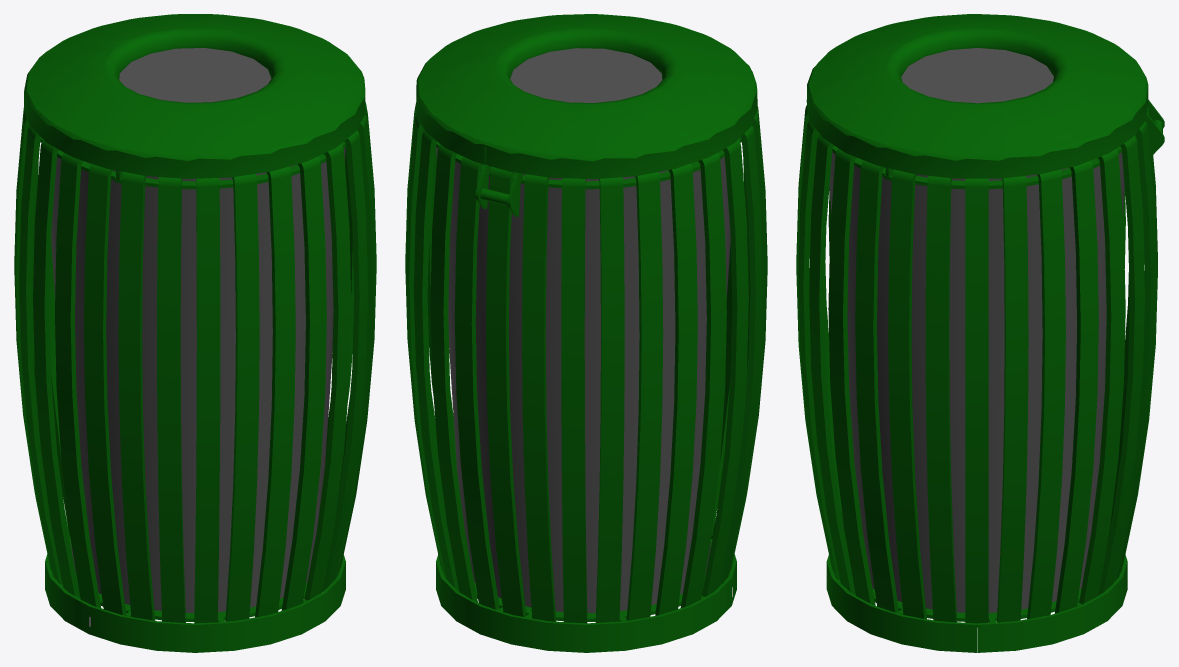
3 renders of one model, left to right at view 1: azimuth 30°, elevation 25°; view 2: azimuth 150°, elevation 25°; view 3: azimuth 270°, elevation 25°, orthographic.
Visible parts, largest first — view 1: mesh1_mesh1-geometry, mesh48_mesh48-geometry, mesh32_mesh32-geometry, mesh3_mesh3-geometry, mesh23_mesh23-geometry, mesh12_mesh12-geometry; view 2: mesh1_mesh1-geometry, mesh48_mesh48-geometry, mesh32_mesh32-geometry, mesh3_mesh3-geometry, mesh23_mesh23-geometry, mesh12_mesh12-geometry; view 3: mesh1_mesh1-geometry, mesh48_mesh48-geometry, mesh32_mesh32-geometry, mesh3_mesh3-geometry, mesh23_mesh23-geometry, mesh12_mesh12-geometry.
Boxes of the visible parts, left/top/right/bottom form: mesh1_mesh1-geometry: left=14, top=102, right=376, bottom=623; mesh48_mesh48-geometry: left=51, top=48, right=345, bottom=612; mesh32_mesh32-geometry: left=24, top=14, right=365, bottom=178; mesh3_mesh3-geometry: left=45, top=536, right=345, bottom=652; mesh23_mesh23-geometry: left=39, top=129, right=358, bottom=189; mesh12_mesh12-geometry: left=61, top=538, right=307, bottom=621; mesh1_mesh1-geometry: left=405, top=102, right=767, bottom=623; mesh48_mesh48-geometry: left=436, top=48, right=730, bottom=612; mesh32_mesh32-geometry: left=416, top=14, right=757, bottom=179; mesh3_mesh3-geometry: left=436, top=536, right=736, bottom=652; mesh23_mesh23-geometry: left=423, top=129, right=741, bottom=189; mesh12_mesh12-geometry: left=445, top=538, right=712, bottom=621; mesh1_mesh1-geometry: left=796, top=105, right=1157, bottom=627; mesh48_mesh48-geometry: left=829, top=48, right=1124, bottom=612; mesh32_mesh32-geometry: left=806, top=14, right=1148, bottom=178; mesh3_mesh3-geometry: left=826, top=545, right=1127, bottom=652; mesh23_mesh23-geometry: left=817, top=133, right=1136, bottom=189; mesh12_mesh12-geometry: left=839, top=580, right=1081, bottom=622.
Size of the model in its own units: 0.4672 by 0.7452 by 0.4757.
